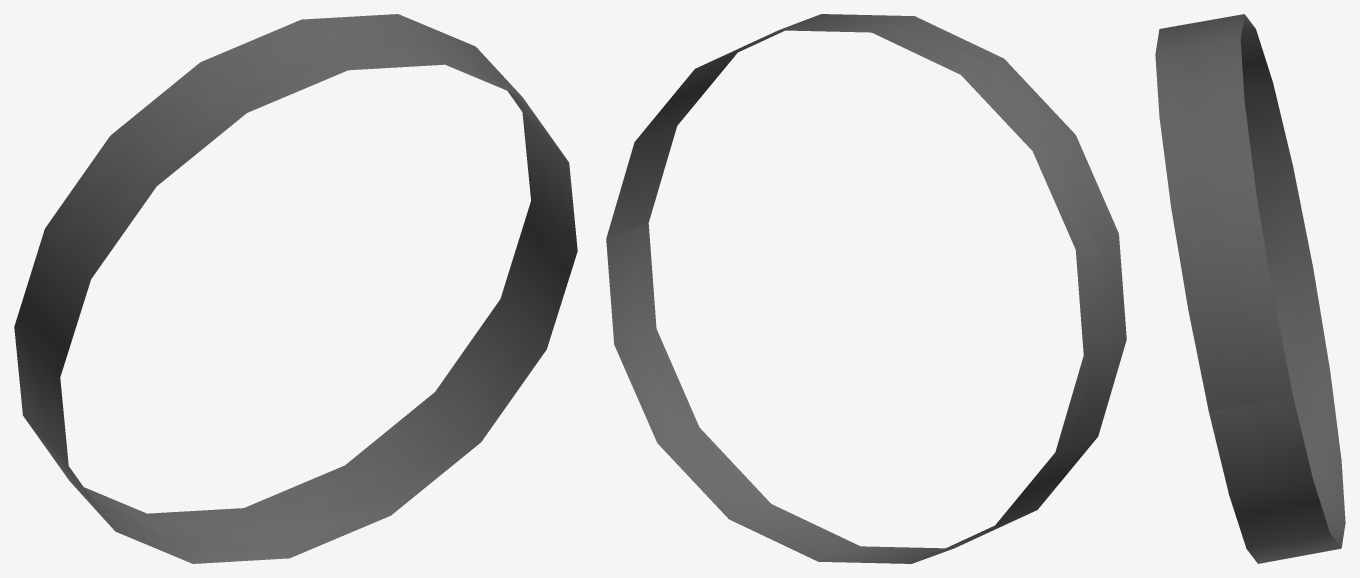
The model's file is mastarmcurve_10x2_c6.obj.
The picture shows the model from 3 angles, left to right: view 1: azimuth 30°, elevation 25°; view 2: azimuth 150°, elevation 25°; view 3: azimuth 270°, elevation 25°; orthographic projection. The views are drawn at different scales.
Parts seen in each view (by area): view 1: mastarm_10x2_c6; view 2: mastarm_10x2_c6; view 3: mastarm_10x2_c6.
Part boxes in pixels (x1,y1,x2,y2): mastarm_10x2_c6: [14, 14, 577, 563]; mastarm_10x2_c6: [606, 14, 1126, 563]; mastarm_10x2_c6: [1155, 14, 1345, 563].
Bounding box in the file's own units: 0.5375 × 0.5435 × 0.1878.
